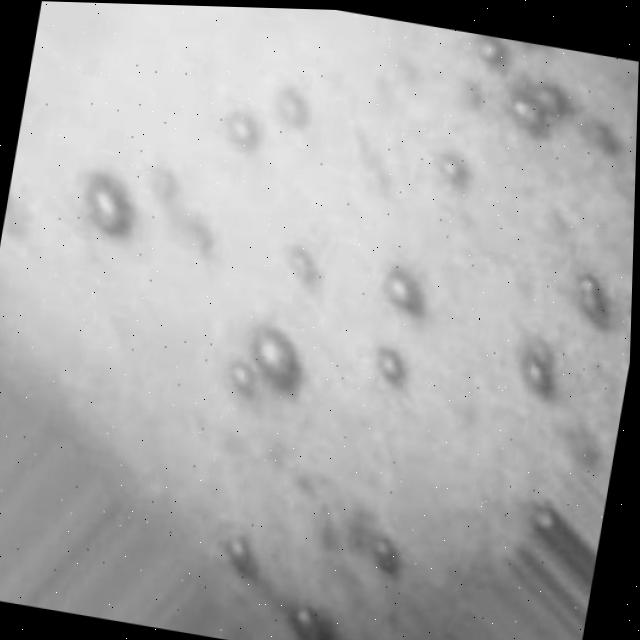Shingles: (74, 170, 142, 238), (509, 75, 576, 142), (246, 323, 308, 387), (568, 269, 618, 327), (512, 336, 560, 395), (378, 263, 431, 314), (278, 603, 338, 640), (215, 531, 261, 575), (272, 87, 312, 130), (476, 34, 515, 72), (374, 346, 412, 381), (225, 360, 260, 396), (227, 114, 262, 148), (439, 155, 469, 185)
